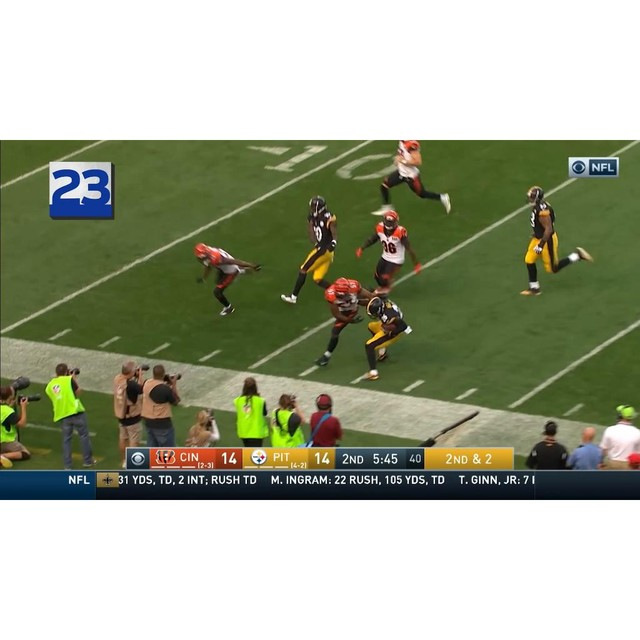american-football-player: (521, 185, 594, 294), (313, 277, 383, 367), (280, 196, 338, 302), (378, 140, 451, 216), (357, 209, 421, 293), (194, 242, 263, 316), (357, 296, 412, 380)
